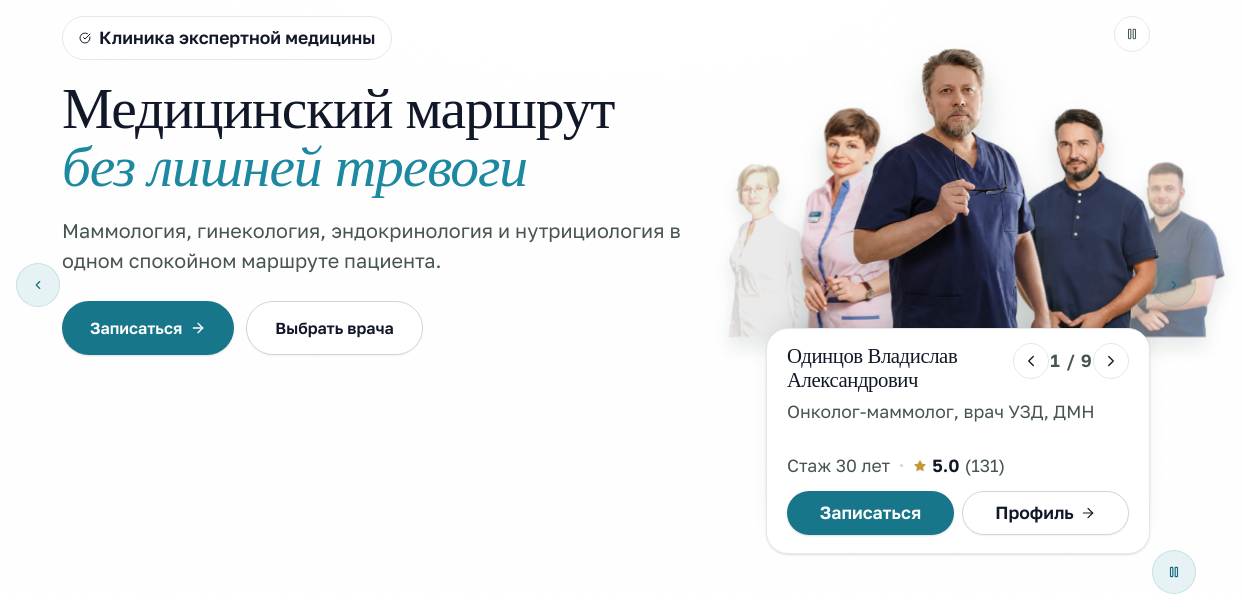
it: HeroSlider doctor autoplay › keeps rotating doctors while the slides stay paused
This screenshot has width=1242, height=611.
What coordinates should you click on to do the following:
click the button named "Приостановить автопрокрутку слайдов"
I would click on:
 (1174, 572)
Its box is 1152,550 -> 1196,594.
Wait 4000 ms
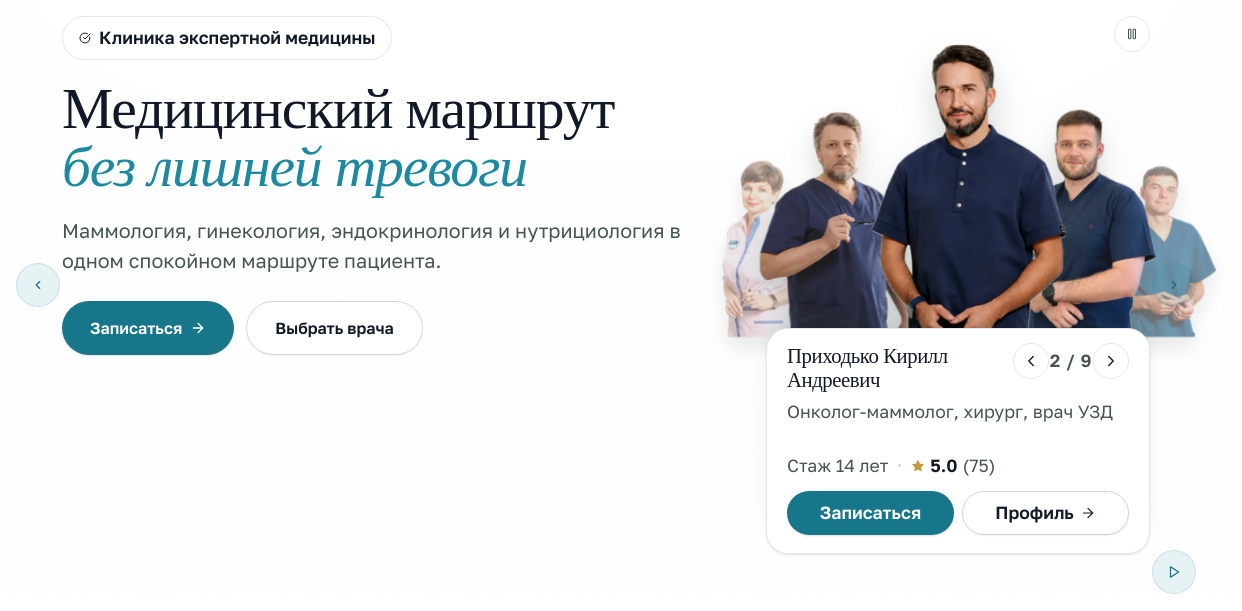
Check: the text with class "mobile-doctor-carousel-count" reads "2 / 9", box 1049,348 -> 1093,374
